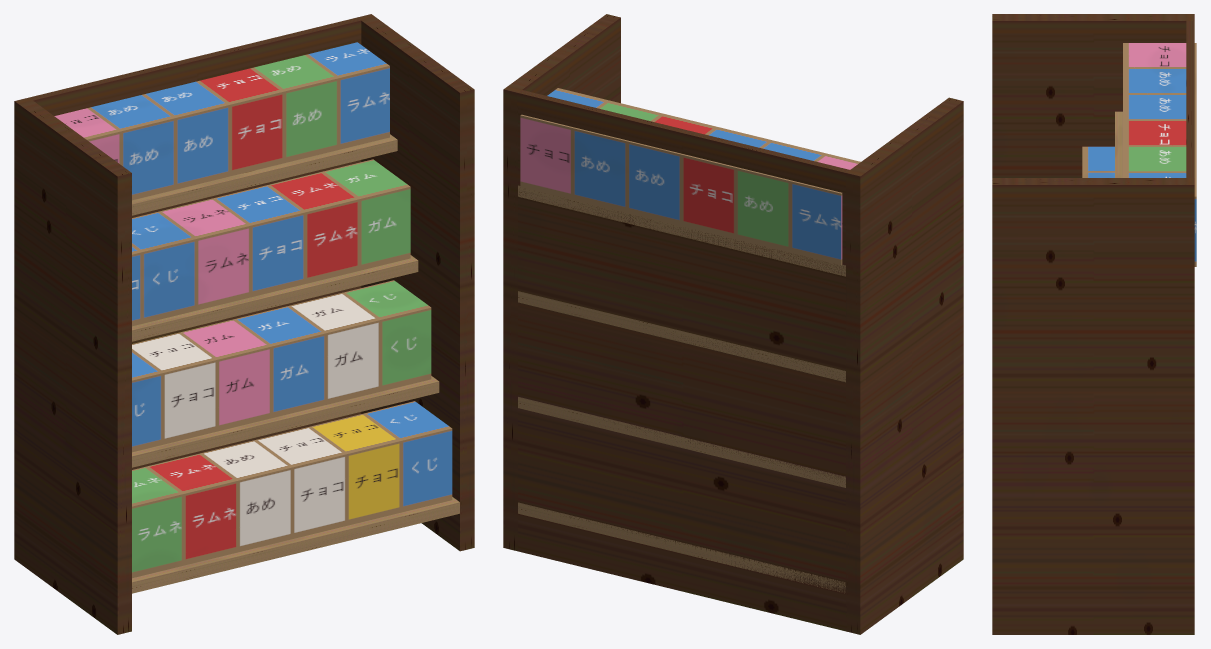
File: dagashirack.glb
3 views of the same model, side by side, from view 1: azimuth 30°, elevation 25°; view 2: azimuth 150°, elevation 25°; view 3: azimuth 270°, elevation 25° (orthographic).
Visible parts, largest first — view 1: dagashirack; view 2: dagashirack; view 3: dagashirack.
Part boxes in pixels (bbox=[...]): dagashirack: bbox=[14, 14, 474, 634]; dagashirack: bbox=[503, 14, 963, 634]; dagashirack: bbox=[992, 14, 1196, 634].
Size of the model in its own units: 0.99 by 1.22 by 0.5.
Materials: 1 (1 with a texture image).
